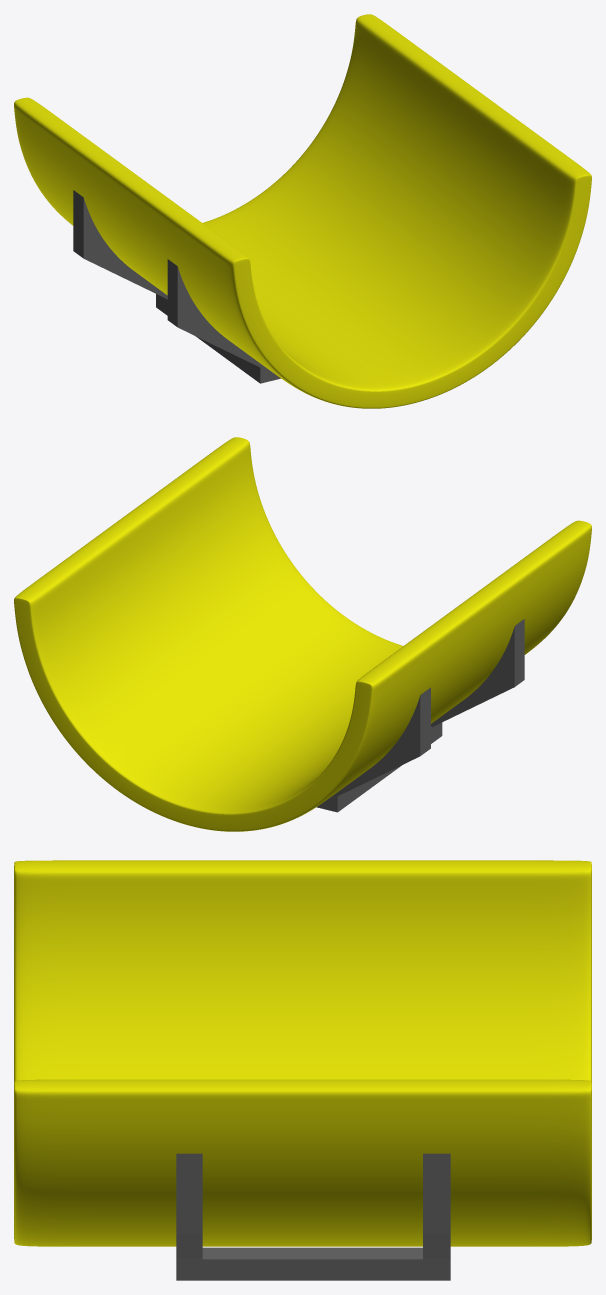
Rendered from pipe attach.fbx.
3 views of the same model, one above another, from view 1: azimuth 30°, elevation 25°; view 2: azimuth 150°, elevation 25°; view 3: azimuth 270°, elevation 25° (orthographic). The views are drawn at different scales.
Parts seen in each view (by area): view 1: Cylinder, block; view 2: Cylinder, block; view 3: Cylinder, block.
Boxes of the visible parts, left/top/right/bottom form: Cylinder: left=14, top=14, right=591, bottom=408; block: left=73, top=190, right=280, bottom=383; Cylinder: left=14, top=437, right=591, bottom=831; block: left=316, top=619, right=524, bottom=812; Cylinder: left=14, top=860, right=591, bottom=1246; block: left=176, top=1153, right=450, bottom=1280.
Bounding box in the file's own units: 99.64 × 49.87 × 105.
